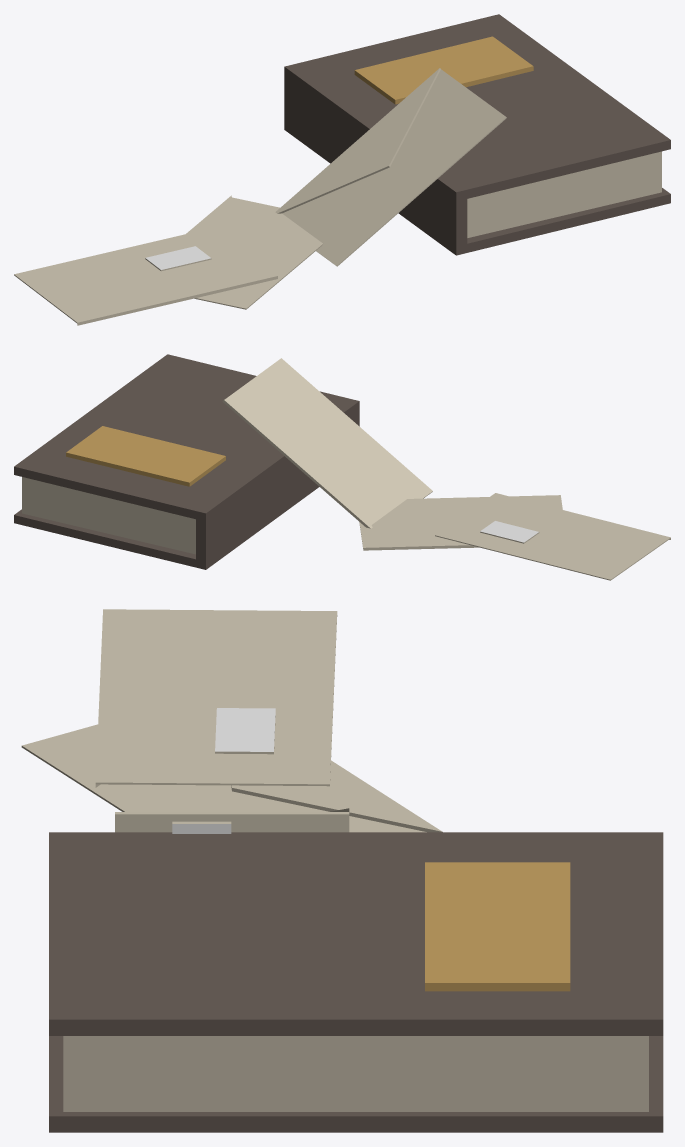
The model's file is clutter1.fbx.
The picture shows the model from 3 angles, top to bottom: view 1: azimuth 30°, elevation 25°; view 2: azimuth 150°, elevation 25°; view 3: azimuth 270°, elevation 25°; orthographic projection. The views are drawn at different scales.
Parts seen in each view (by area): view 1: Cube, Cube.002, Cube.001, Cube.003; view 2: Cube, Cube.002, Cube.001, Cube.003; view 3: Cube, Cube.001, Cube.003, Cube.002.
Part boxes in pixels (bbox=[...]): Cube: bbox=[284, 14, 670, 255]; Cube.002: bbox=[275, 68, 506, 266]; Cube.001: bbox=[14, 227, 277, 325]; Cube.003: bbox=[186, 195, 322, 309]; Cube: bbox=[14, 354, 359, 569]; Cube.002: bbox=[222, 358, 432, 528]; Cube.001: bbox=[435, 493, 670, 580]; Cube.003: bbox=[359, 495, 562, 550]; Cube: bbox=[49, 832, 663, 1132]; Cube.001: bbox=[95, 609, 337, 787]; Cube.003: bbox=[21, 724, 442, 832]; Cube.002: bbox=[115, 808, 349, 833].
Size of the model in its own units: 58.3 by 10.6 by 31.33.
